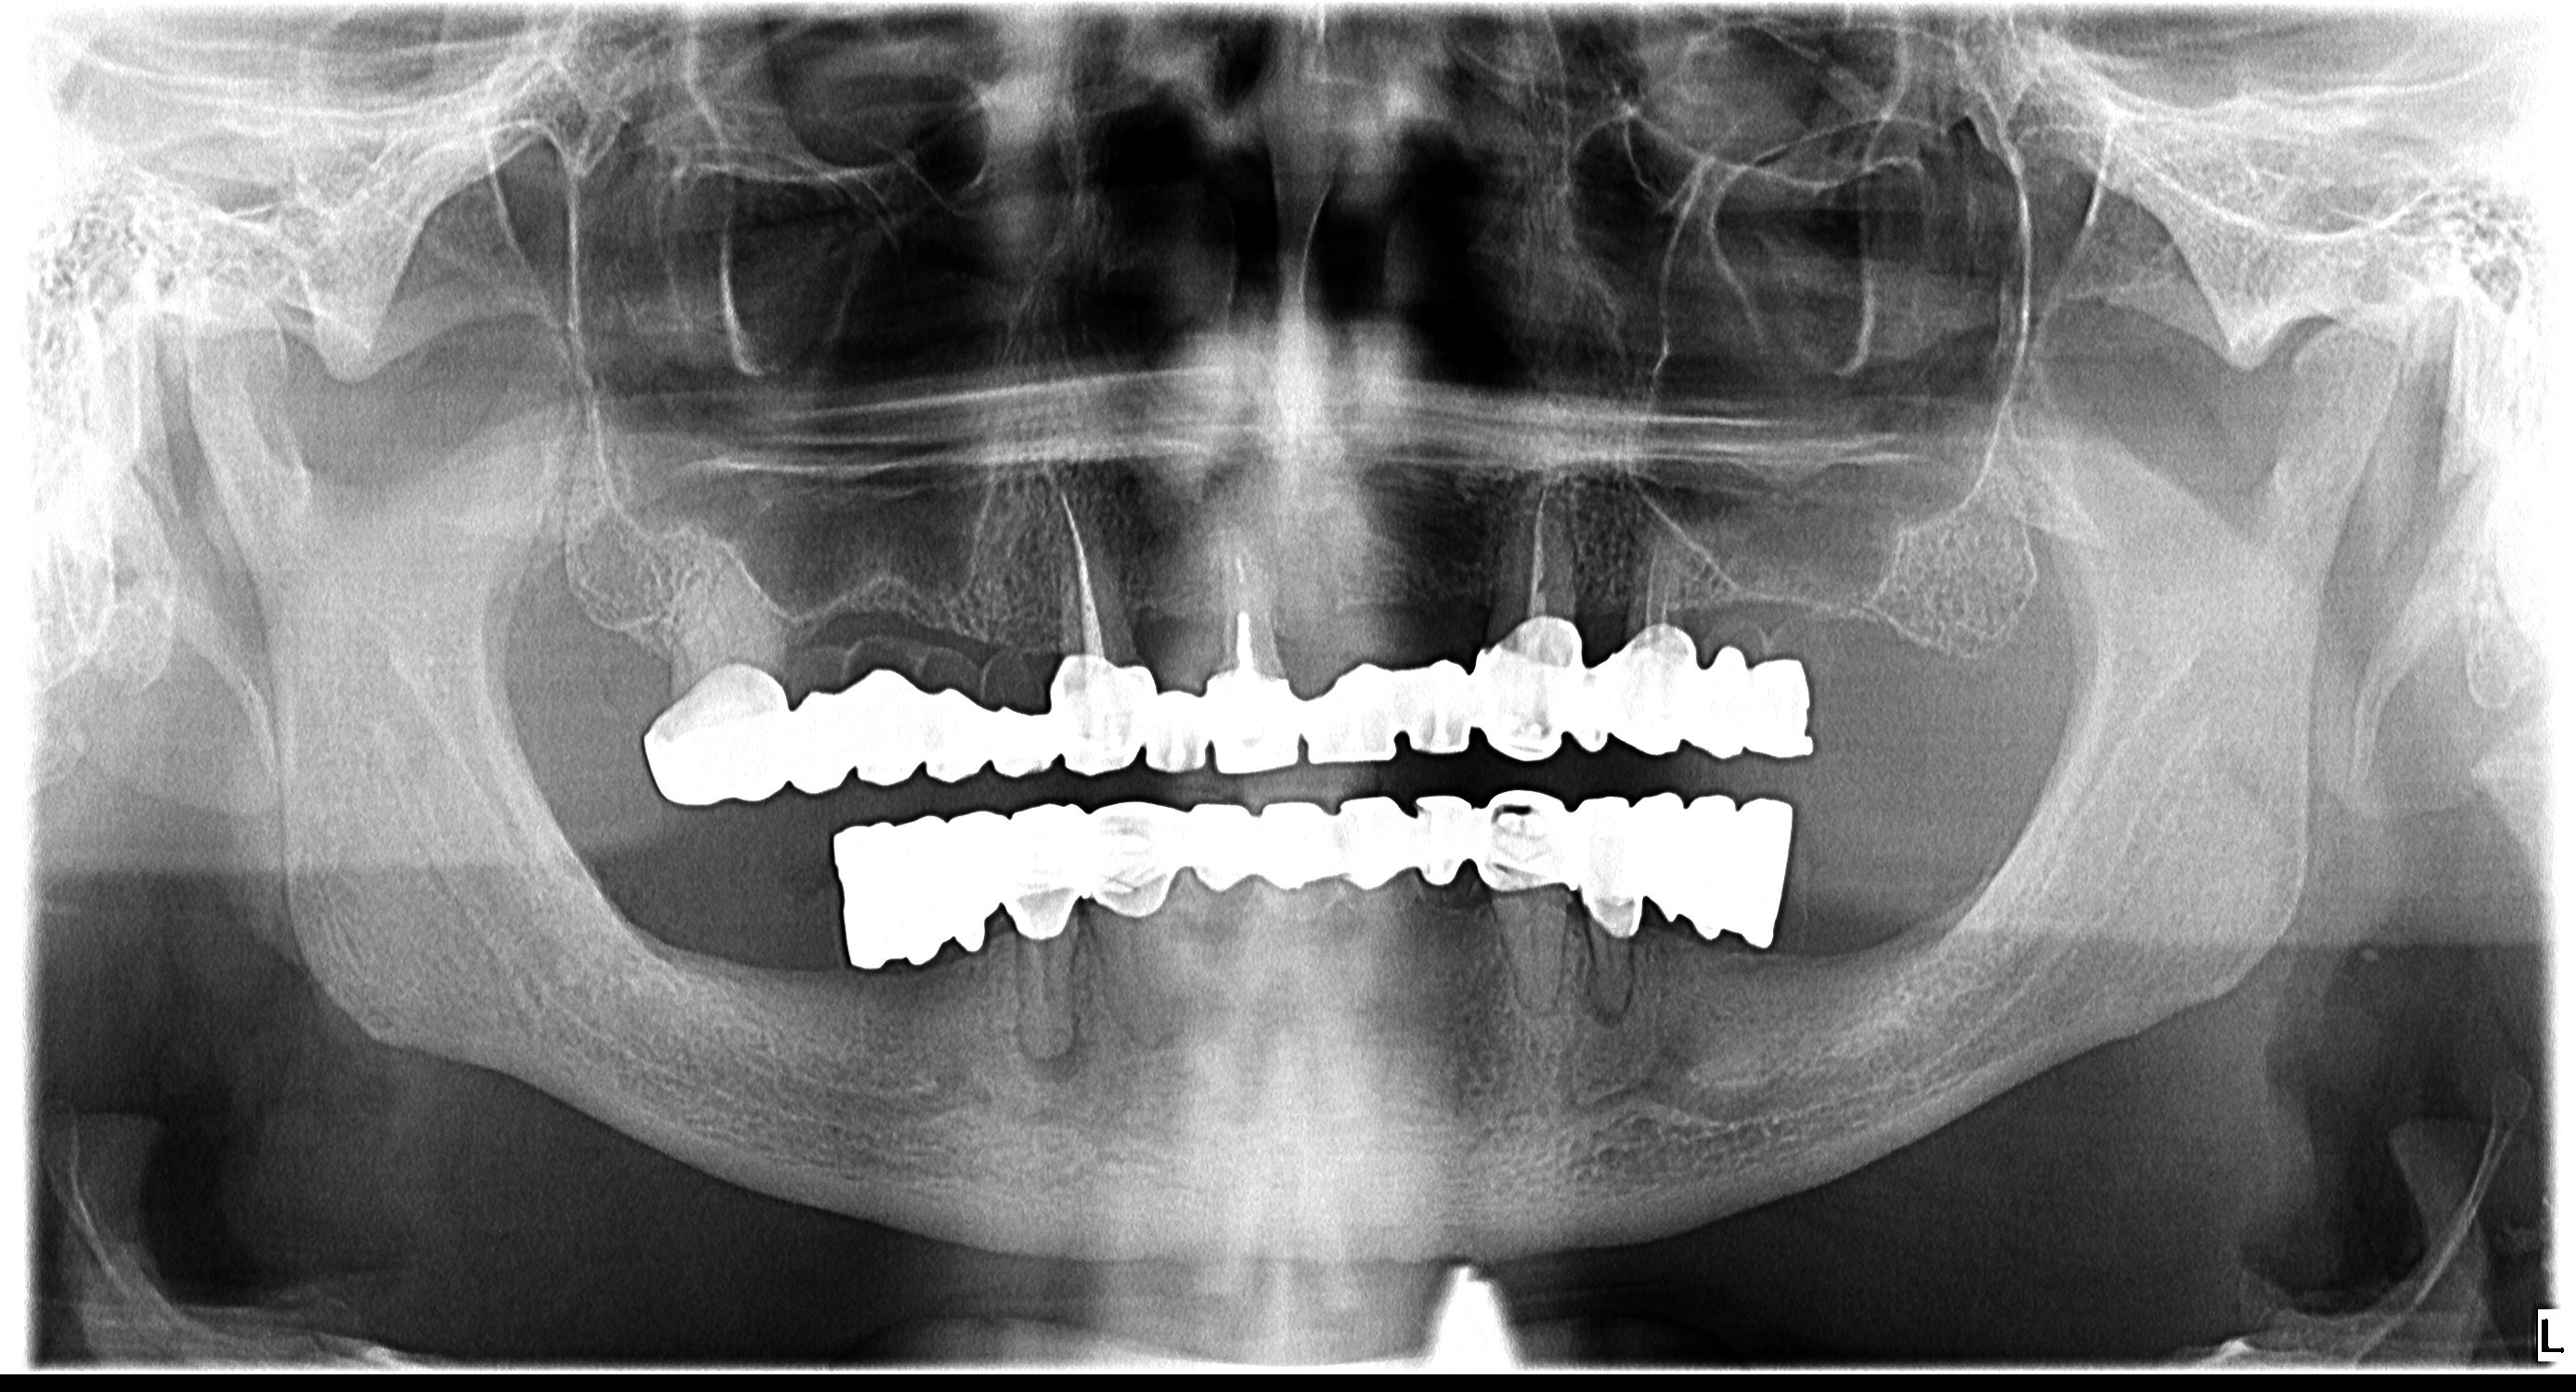API: (1005, 1020, 1100, 1099), (1572, 972, 1641, 1053)
END: (1046, 478, 1118, 667), (1514, 471, 1569, 617), (1214, 507, 1266, 653), (1625, 530, 1687, 626)
PRR: (598, 603, 1828, 797), (819, 775, 1817, 993)
